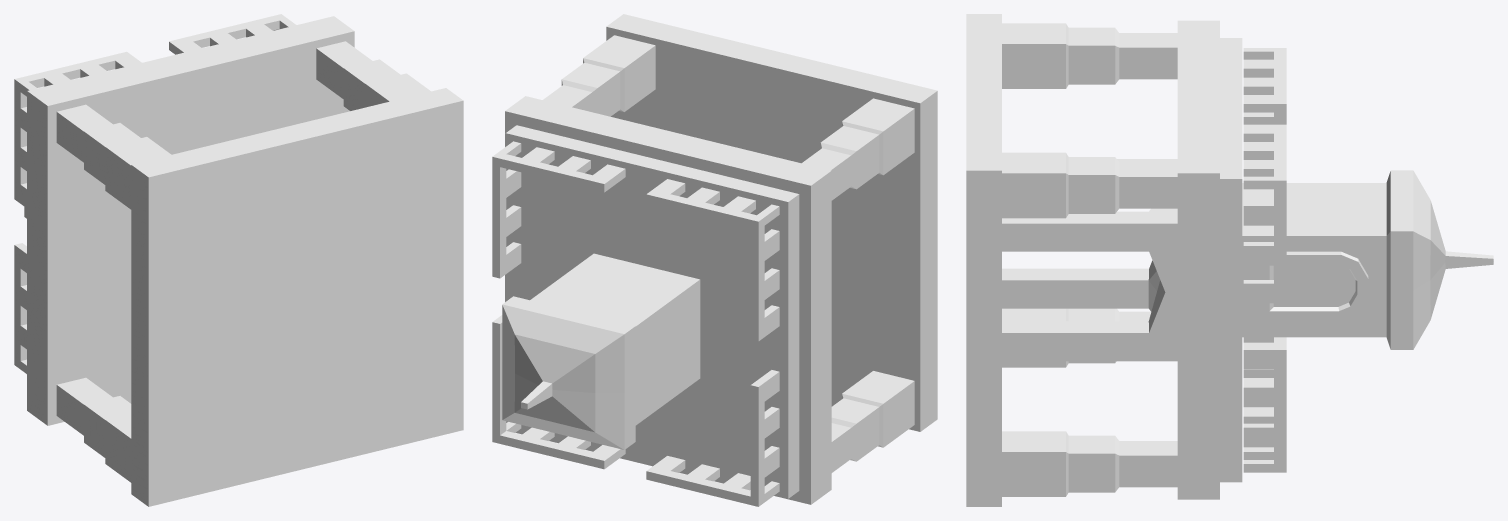
File: venice_palace_1.fbx
3 renders of one model, left to right at view 1: azimuth 30°, elevation 25°; view 2: azimuth 150°, elevation 25°; view 3: azimuth 270°, elevation 25°, orthographic. The views are drawn at different scales.
Parts seen in each view (by area): view 1: Cube.254; view 2: Cube.254; view 3: Cube.254.
Boxes of the visible parts, left/top/right/bottom form: Cube.254: left=14, top=14, right=463, bottom=506; Cube.254: left=492, top=14, right=937, bottom=506; Cube.254: left=966, top=14, right=1493, bottom=506.
Size of the model in its own units: 900 by 900 by 1278.
